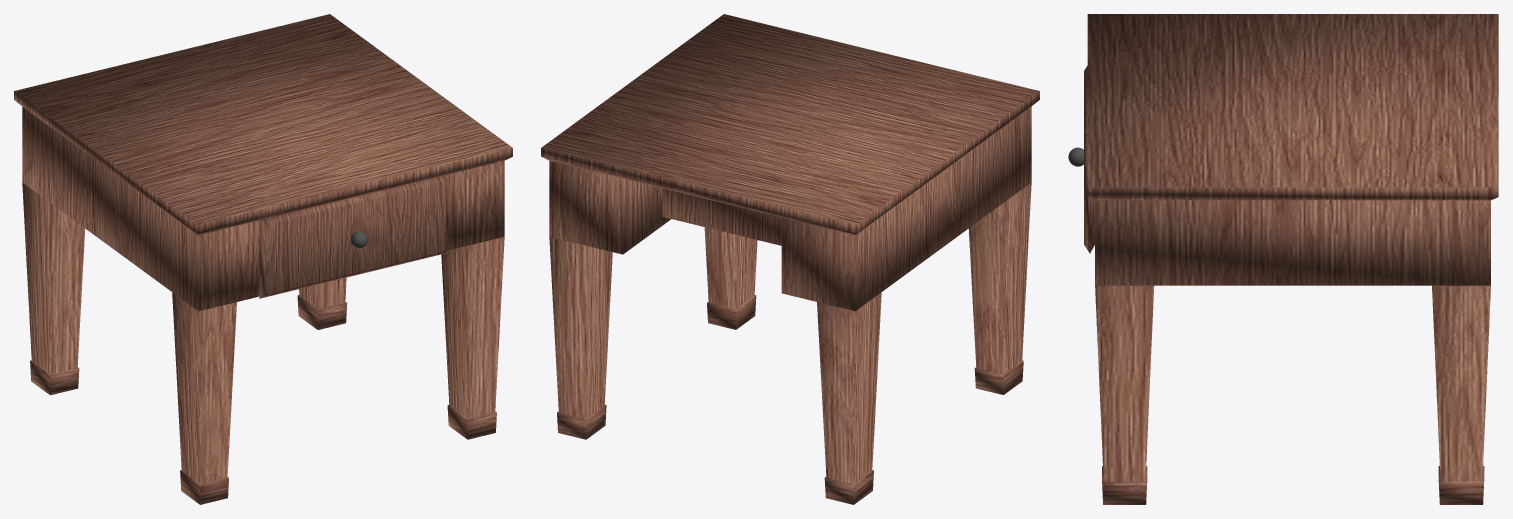
Rendered from Mesita.fbx.
The picture shows the model from 3 angles, left to right: view 1: azimuth 30°, elevation 25°; view 2: azimuth 150°, elevation 25°; view 3: azimuth 270°, elevation 25°; orthographic projection. The views are drawn at different scales.
Visible parts, largest first — view 1: Mesita, MesitaCajon; view 2: Mesita, MesitaCajon; view 3: Mesita, MesitaCajon.
Part boxes in pixels (x1=…): Mesita: x1=14, y1=14, x2=512, y2=504; MesitaCajon: x1=259, y1=174, x2=448, y2=298; Mesita: x1=541, y1=14, x2=1039, y2=504; MesitaCajon: x1=662, y1=188, x2=781, y2=245; Mesita: x1=1087, y1=14, x2=1498, y2=504; MesitaCajon: x1=1068, y1=66, x2=1094, y2=253.
Size of the model in its own units: 124 by 108 by 130.
Materials: 6 (6 with a texture image).
